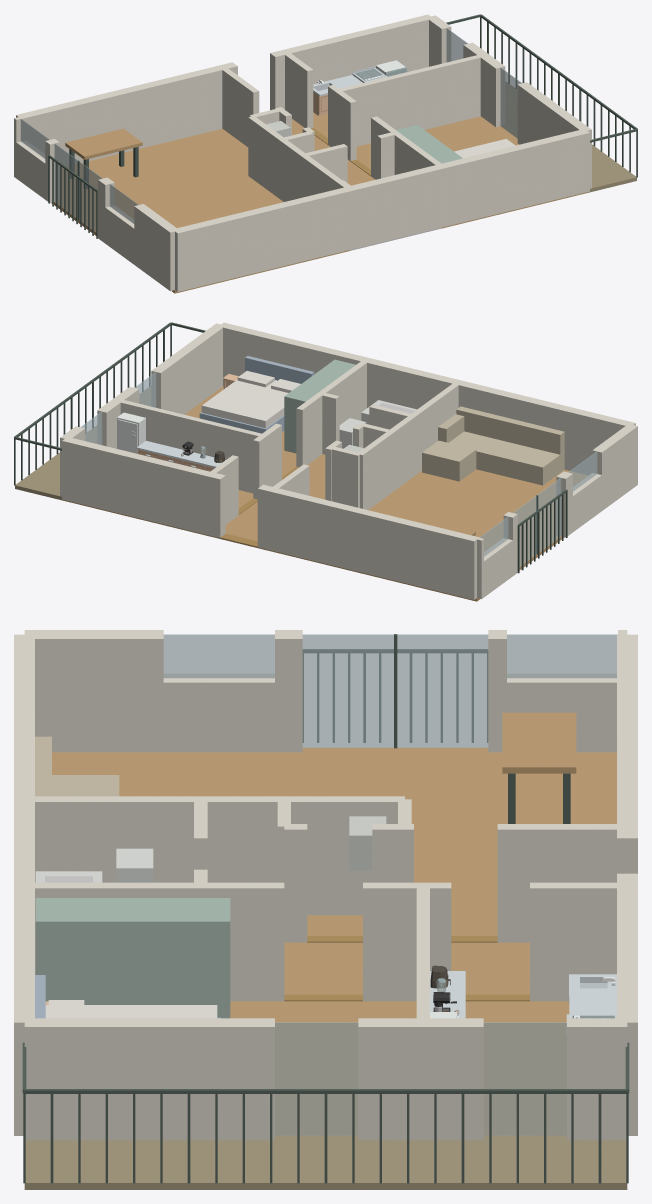
File: nuremberg.glb
3 renders of one model, top to bottom at view 1: azimuth 30°, elevation 25°; view 2: azimuth 150°, elevation 25°; view 3: azimuth 270°, elevation 25°, orthographic. The views are drawn at different scales.
Bounding box in the file's own units: 10.89 × 1.38 × 6.5.
Materials: 5 (5 with a texture image).
